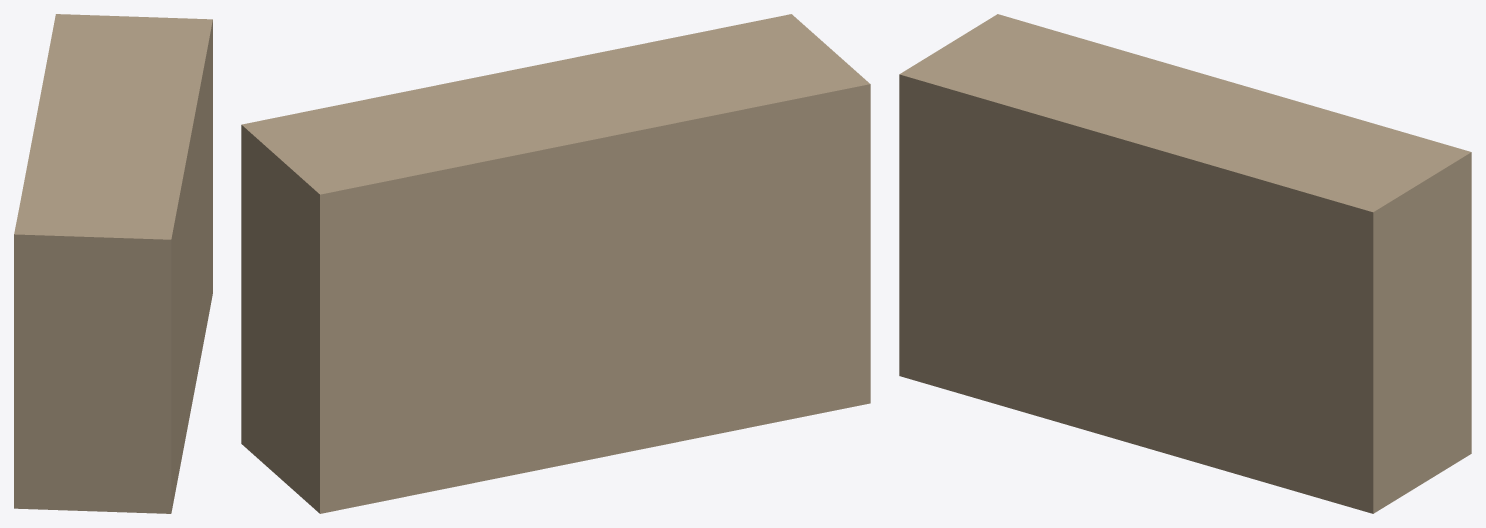
The model's file is bld_100469313.dae.
3 renders of one model, left to right at view 1: azimuth 30°, elevation 25°; view 2: azimuth 150°, elevation 25°; view 3: azimuth 270°, elevation 25°, orthographic. The views are drawn at different scales.
Visible parts, largest first — view 1: bld_100469313; view 2: bld_100469313; view 3: bld_100469313.
Boxes of the visible parts, bbox=[...] form: bld_100469313: bbox=[14, 14, 212, 513]; bld_100469313: bbox=[241, 14, 870, 513]; bld_100469313: bbox=[899, 14, 1471, 513].
Bounding box in the file's own units: 11.28 × 13.76 × 8.
